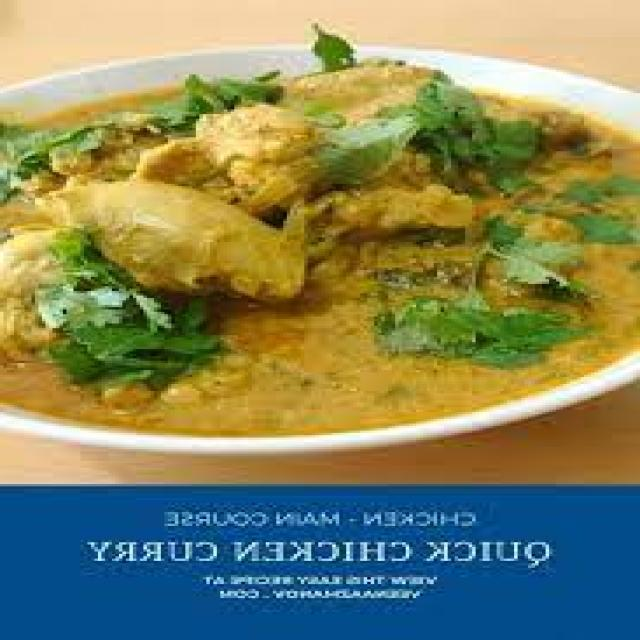Chicken Curry: (0, 61, 640, 435), (0, 70, 640, 433)
